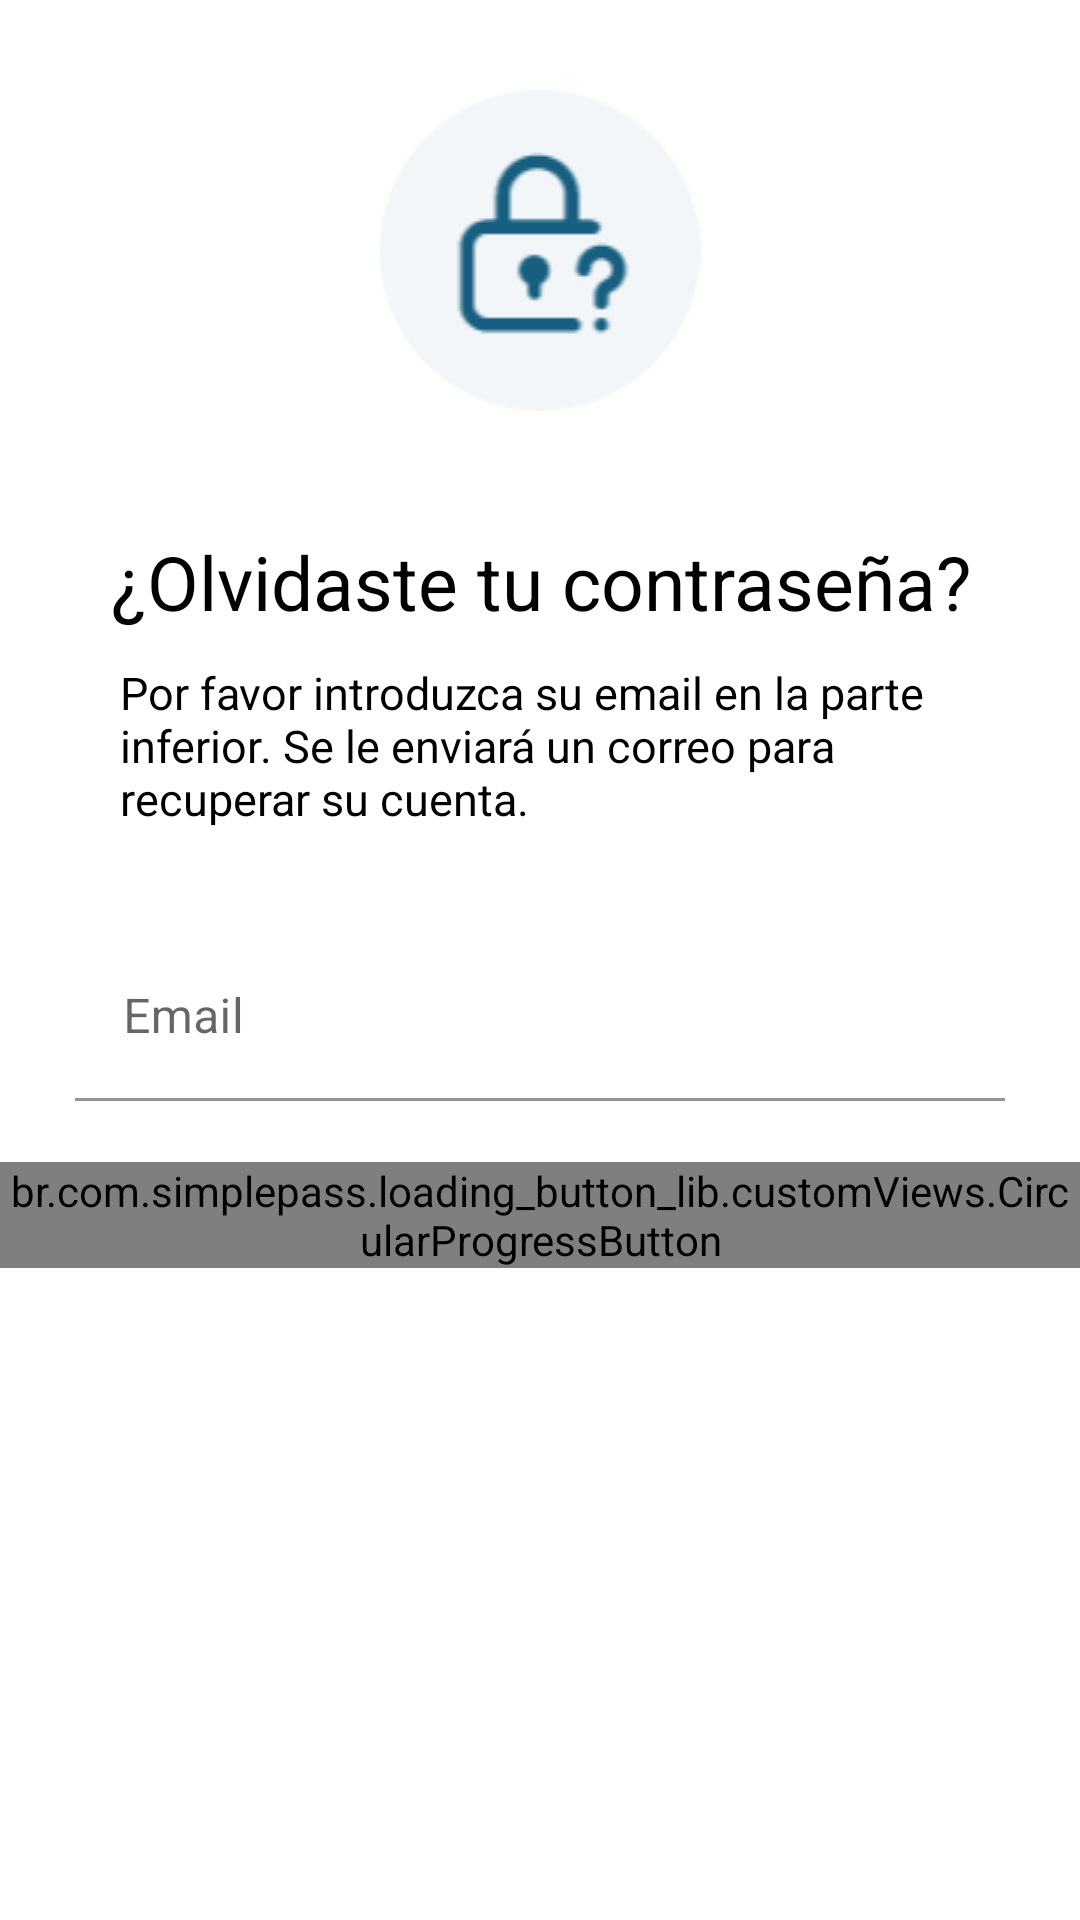

Where to tap for icons on this 1080w x 1920h app screen, as (x,y):
candado: (540,250)
